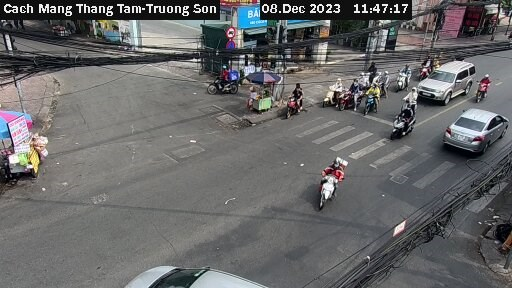car: (442, 103, 508, 155), (417, 61, 471, 104)
motorbike: (301, 156, 356, 209), (384, 108, 421, 144), (278, 85, 315, 119), (394, 86, 425, 117), (322, 77, 350, 109), (470, 69, 496, 102), (340, 84, 367, 112), (392, 60, 414, 93), (362, 85, 387, 113)
